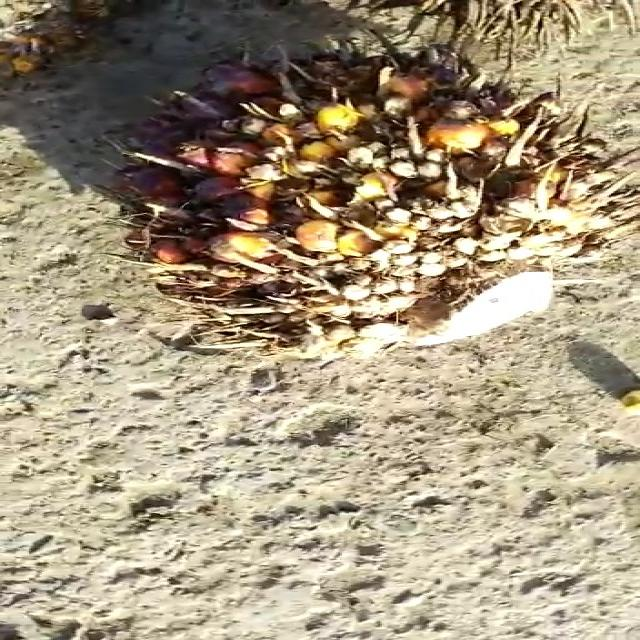palm oil: (118, 46, 638, 358)
